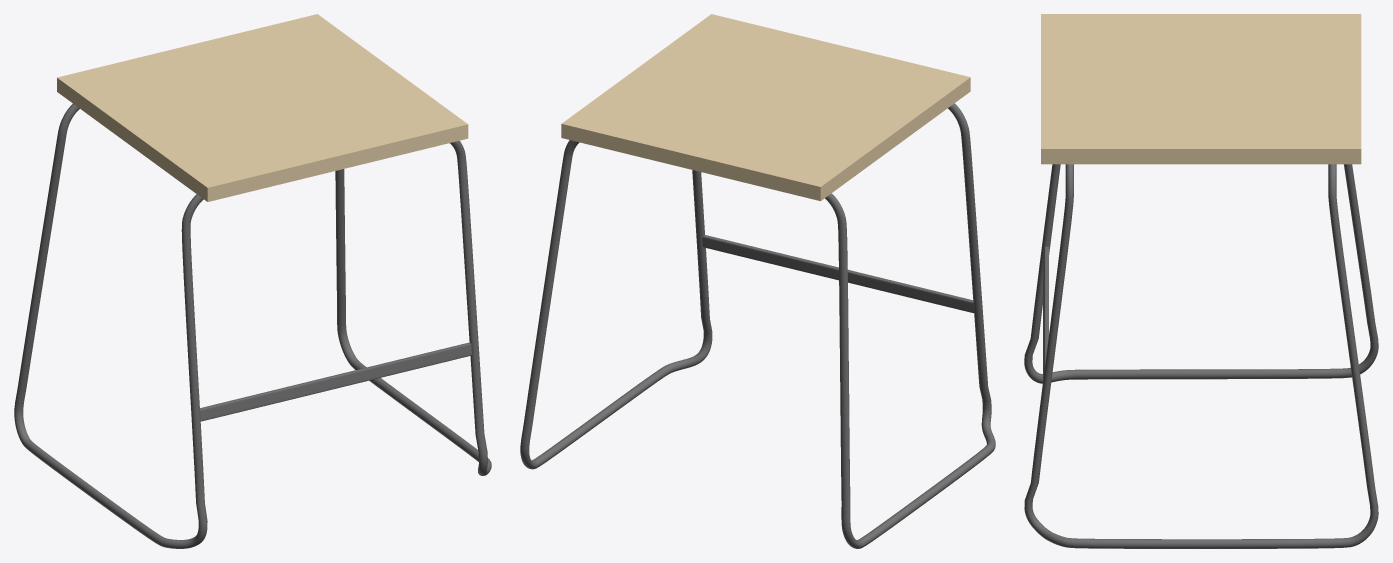
Rendered from Парта (2).fbx.
The picture shows the model from 3 angles, left to right: view 1: azimuth 30°, elevation 25°; view 2: azimuth 150°, elevation 25°; view 3: azimuth 270°, elevation 25°; orthographic projection. The views are drawn at different scales.
Visible parts, largest first — view 1: Cube.002, Cube.001, Cube.003; view 2: Cube.002, Cube.001, Cube.003; view 3: Cube.002, Cube.001, Cube.003.
Boxes of the visible parts, x1,y1,x2,y2 form: Cube.002: (57, 14, 468, 201); Cube.001: (14, 104, 491, 548); Cube.003: (200, 342, 471, 421); Cube.002: (561, 14, 970, 201); Cube.001: (520, 103, 995, 548); Cube.003: (702, 235, 974, 313); Cube.002: (1041, 14, 1361, 164); Cube.001: (1024, 164, 1378, 548); Cube.003: (1043, 246, 1048, 380).
Size of the model in its own units: 188 by 193 by 162.
